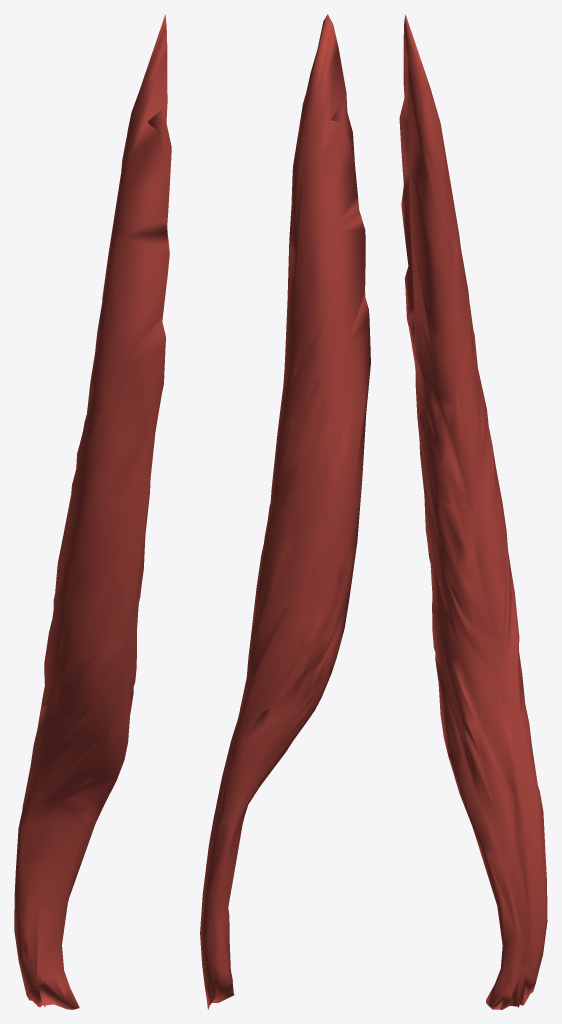
Rendered from musculos-short-head-of-biceps-femoris-l.glb.
3 renders of one model, left to right at view 1: azimuth 90°, elevation 25°; view 2: azimuth 150°, elevation 25°; view 3: azimuth 270°, elevation 25°, orthographic. The views are drawn at different scales.
Parts seen in each view (by area): view 1: Short head of biceps femoris.l; view 2: Short head of biceps femoris.l; view 3: Short head of biceps femoris.l.
Part boxes in pixels (box(x1,y1,x2,y2)): Short head of biceps femoris.l: box(14, 14, 171, 1009); Short head of biceps femoris.l: box(200, 14, 370, 1009); Short head of biceps femoris.l: box(399, 14, 547, 1009).
Bounding box in the file's own units: 0.0368 × 0.3013 × 0.0419.
